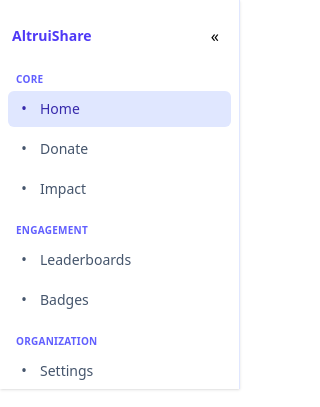
Test: SideNav › collapse toggle hides labels but keeps tooltips
Click the button named "collapse navigation": x=215, y=36 [203,16,227,56]
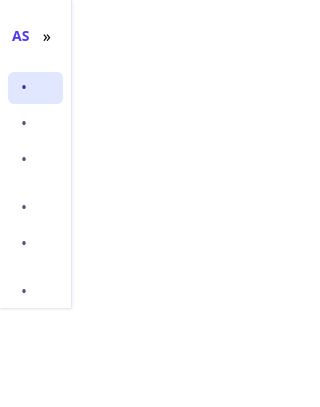
Result: the text "Donate" is gone
